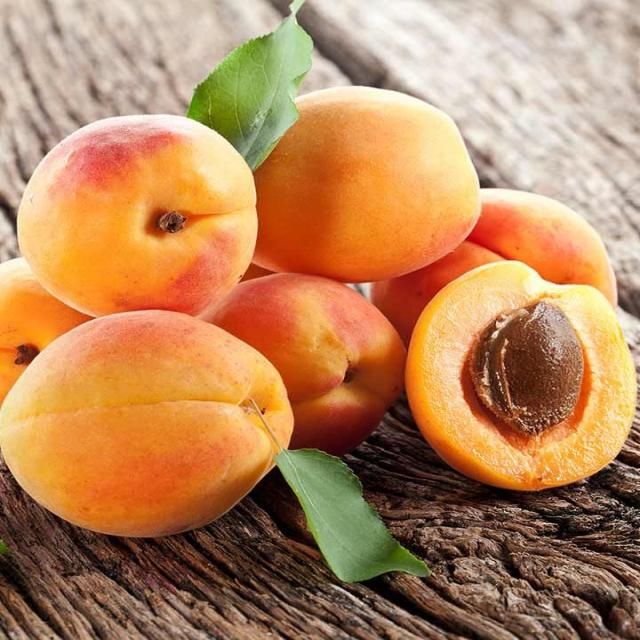kayisi: (0, 312, 292, 534), (405, 261, 636, 492), (17, 115, 260, 319), (252, 86, 482, 285), (196, 273, 407, 458), (370, 190, 612, 351), (0, 258, 90, 408)
kayisiyapragi: (185, 3, 314, 172), (280, 449, 429, 583)
